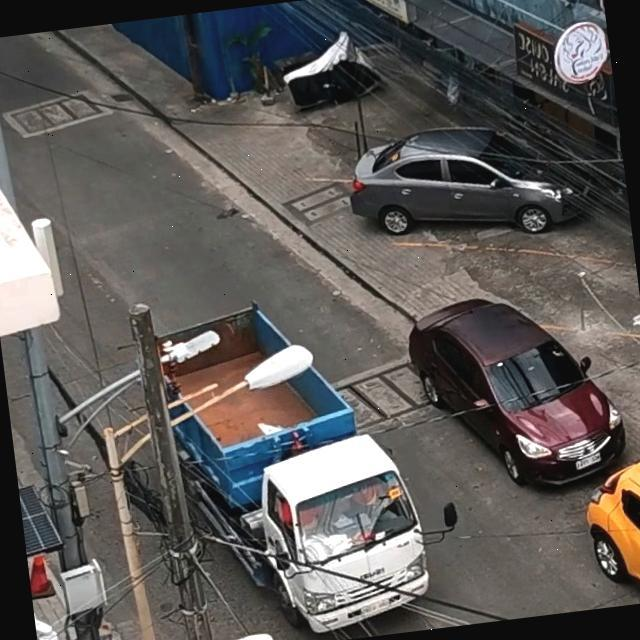Truck: (111, 254, 444, 640)
